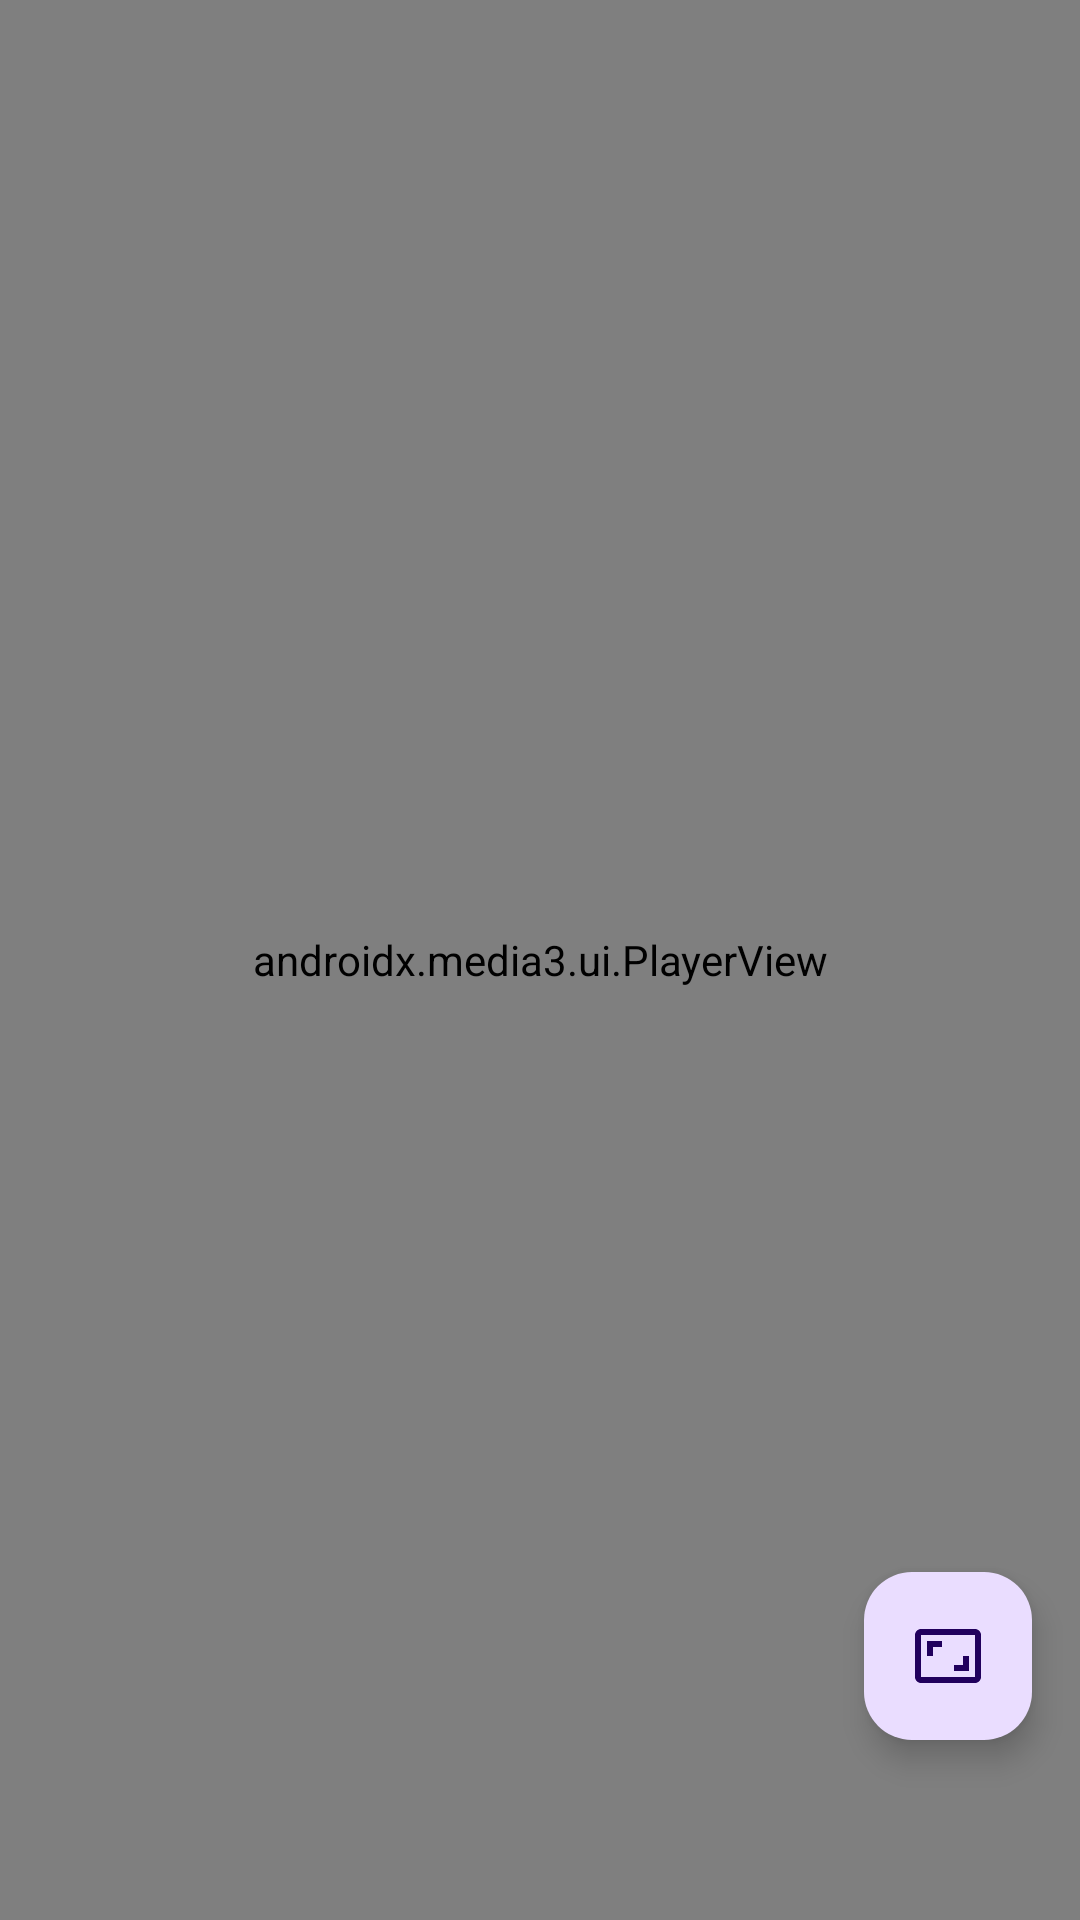

Named icons in this screenshot (1080 x 1920) and their centers, (x=x, y=y):
Resolution: (x=948, y=1656)
